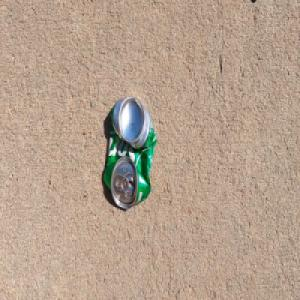SodaCan: (102, 95, 157, 212)
